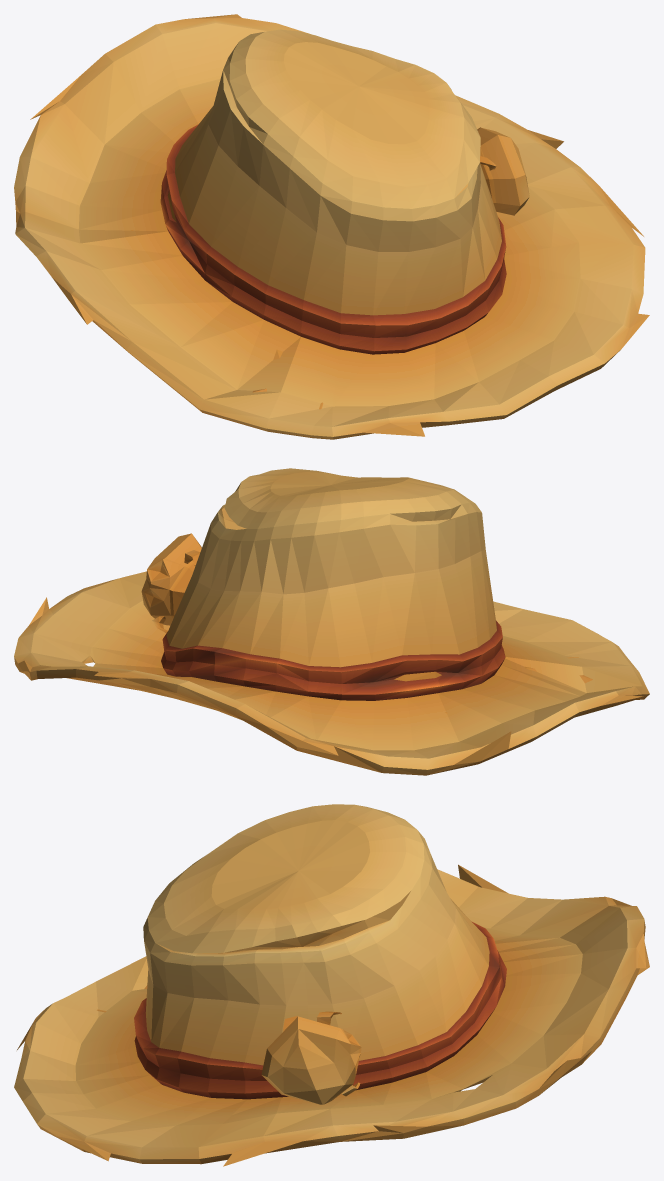
The model's file is CharSkyKid_Hair_AP07StrawHat_01.glb.
3 renders of one model, top to bottom at view 1: azimuth 30°, elevation 25°; view 2: azimuth 150°, elevation 25°; view 3: azimuth 270°, elevation 25°, orthographic. The views are drawn at different scales.
Visible parts, largest first — view 1: CharSkyKid_Hair_AP07StrawHat_01; view 2: CharSkyKid_Hair_AP07StrawHat_01; view 3: CharSkyKid_Hair_AP07StrawHat_01.
Part boxes in pixels (left/top/right/bottom): CharSkyKid_Hair_AP07StrawHat_01: left=14, top=14, right=649, bottom=439; CharSkyKid_Hair_AP07StrawHat_01: left=14, top=468, right=649, bottom=775; CharSkyKid_Hair_AP07StrawHat_01: left=14, top=804, right=649, bottom=1166.
Bounding box in the file's own units: 5.84 × 2.67 × 6.14.
1 material, 1 textured.
